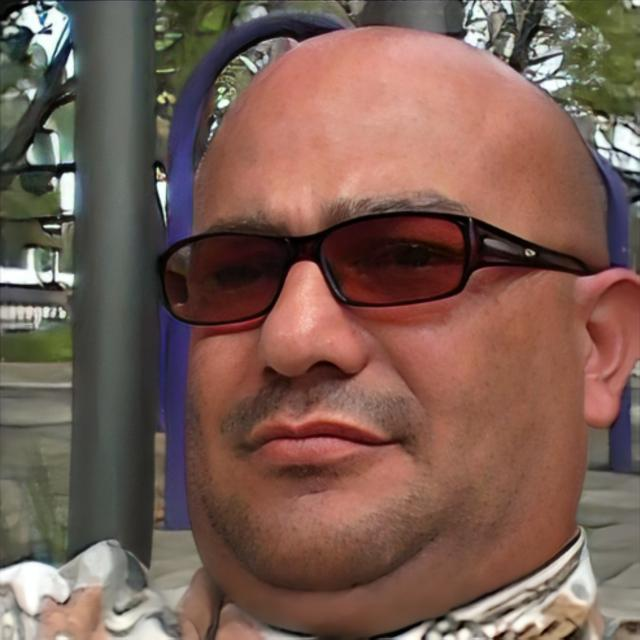content: (182, 24, 584, 594)
